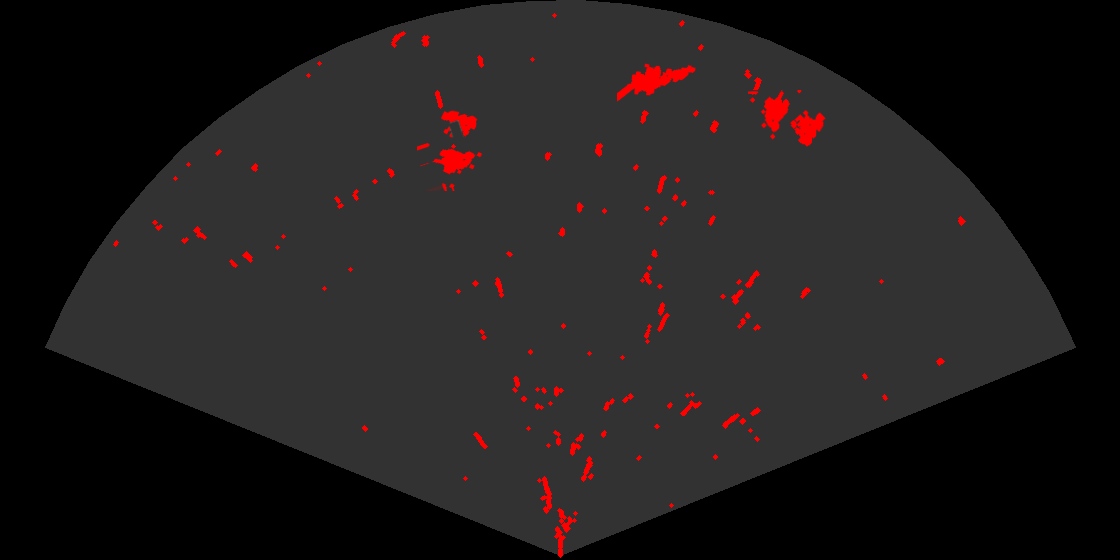cage: (417, 109, 484, 191), (748, 90, 827, 148)
frogman: (617, 62, 697, 103)
